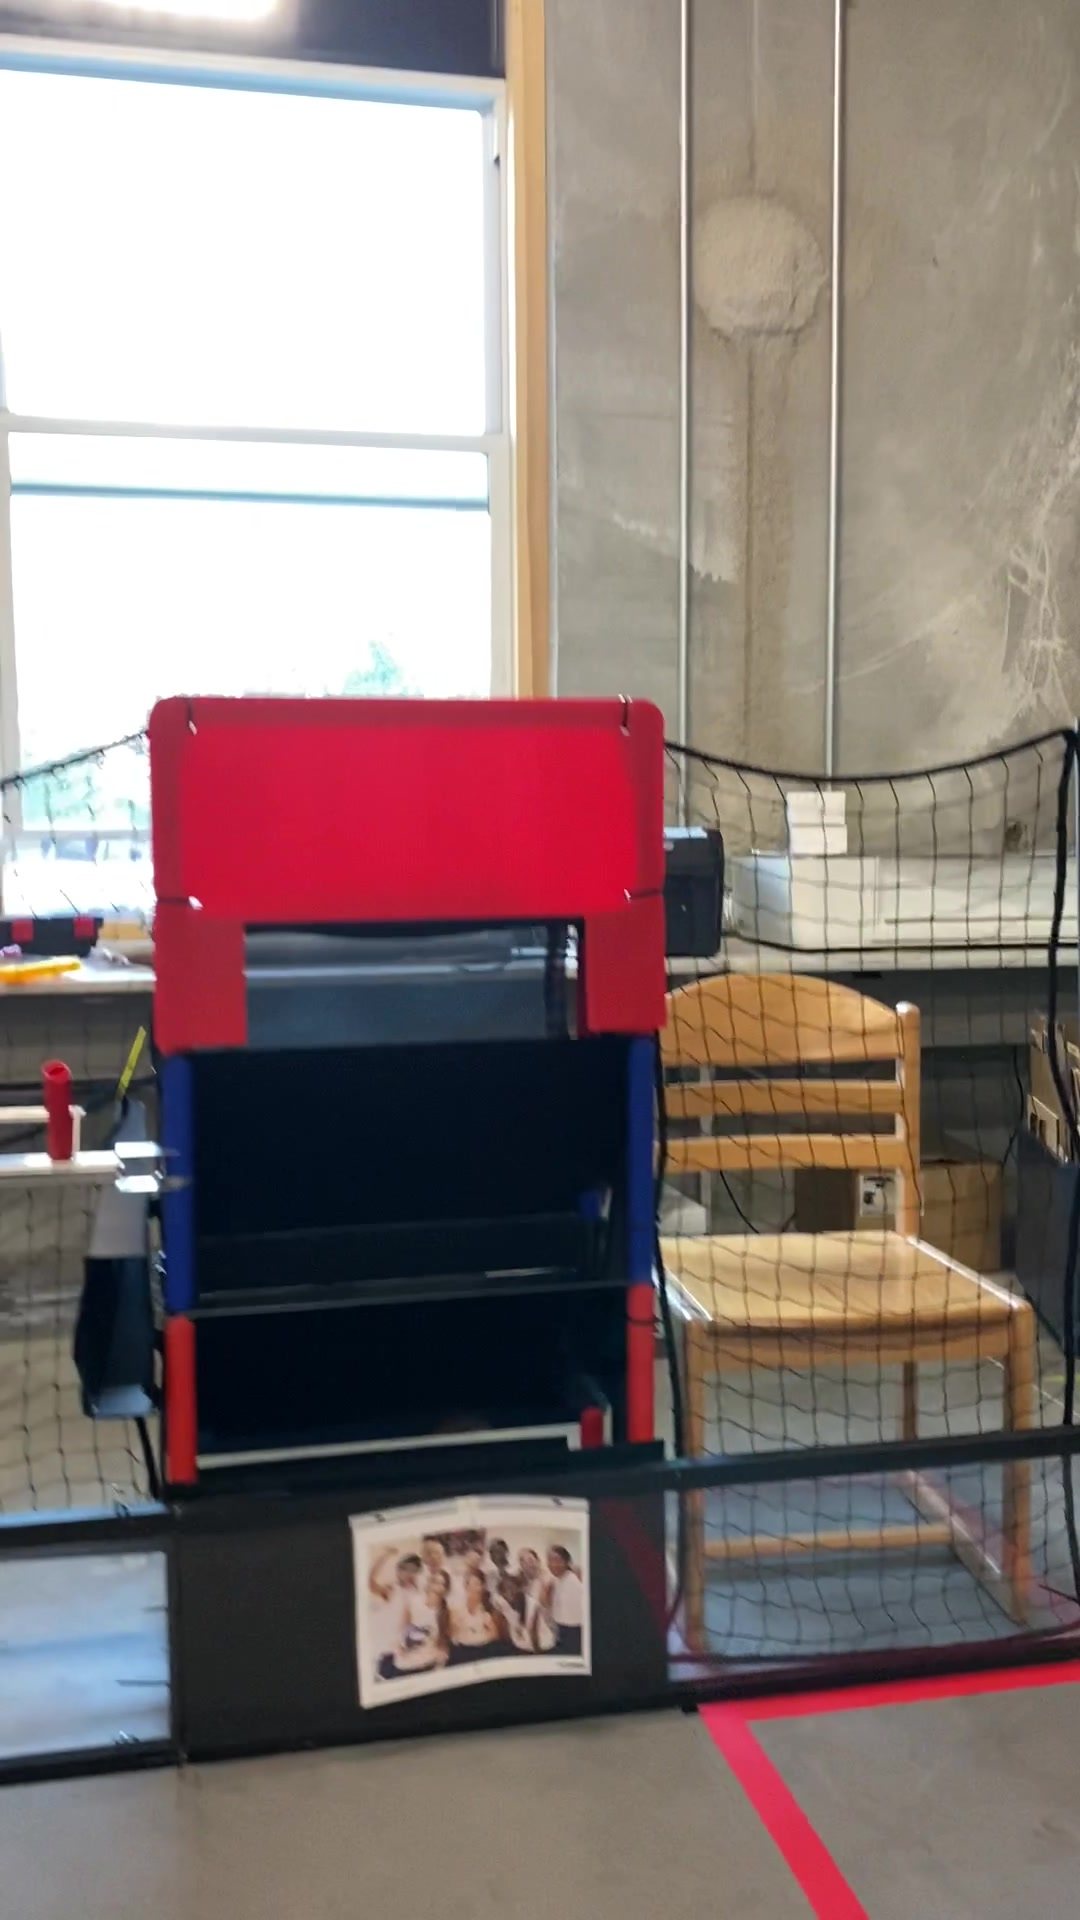high_goal: (243, 918, 597, 1044)
